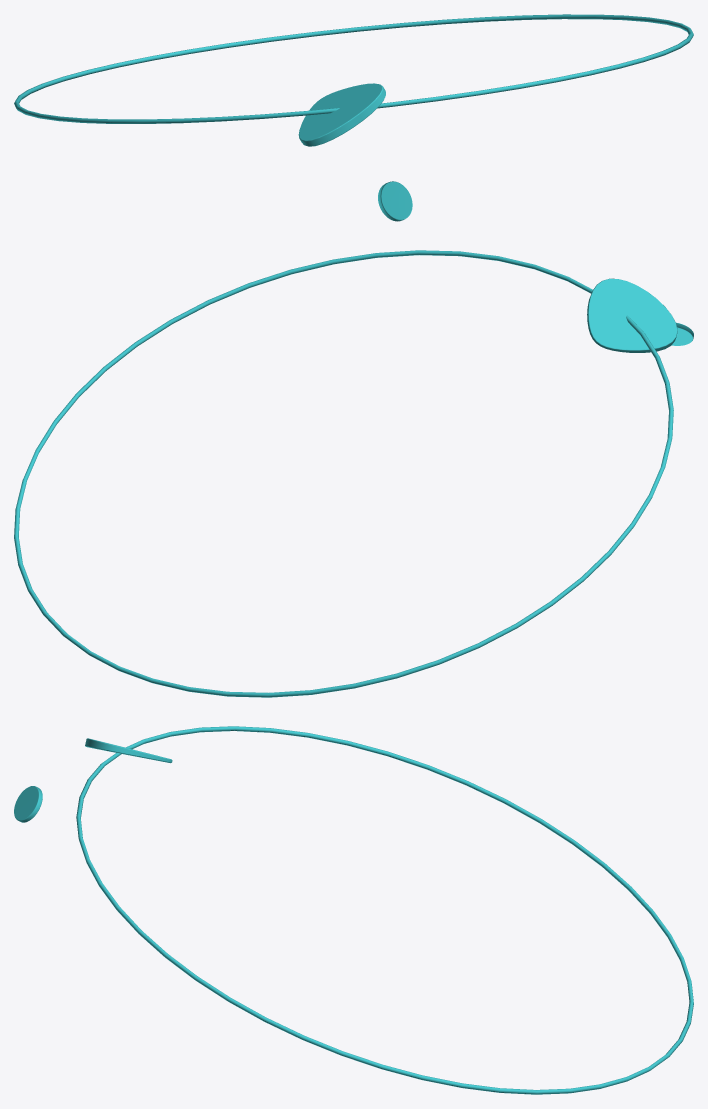
The model's file is SM_Big_Burger_Ring_02.FBX.
3 renders of one model, top to bottom at view 1: azimuth 30°, elevation 25°; view 2: azimuth 150°, elevation 25°; view 3: azimuth 270°, elevation 25°, orthographic. The views are drawn at different scales.
Parts seen in each view (by area): view 1: SM_Big_Burger_Ring_02_LOD0; view 2: SM_Big_Burger_Ring_02_LOD0; view 3: SM_Big_Burger_Ring_02_LOD0.
Part boxes in pixels (left/top/right/bottom): SM_Big_Burger_Ring_02_LOD0: left=14, top=14, right=693, bottom=221; SM_Big_Burger_Ring_02_LOD0: left=14, top=250, right=693, bottom=697; SM_Big_Burger_Ring_02_LOD0: left=14, top=726, right=693, bottom=1094.
Bounding box in the file's own units: 316 × 331 × 113.
